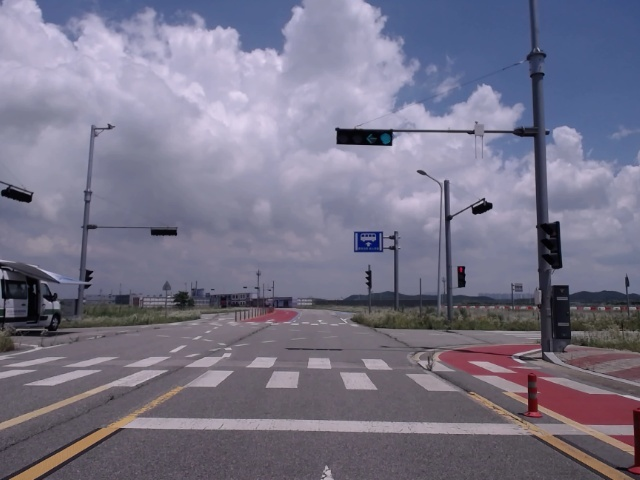all_green_4: (334, 128, 392, 147)
